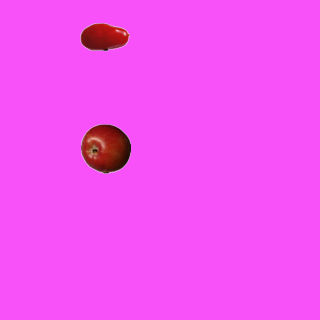Apple Braeburn: (80, 123, 130, 173)
Tomato 2: (79, 11, 129, 61)
